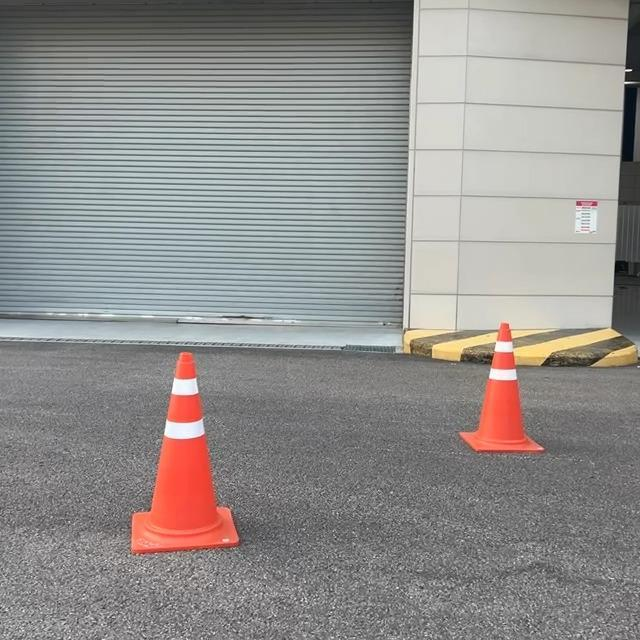fallen_object: (90, 349, 294, 573), (437, 302, 610, 530)
